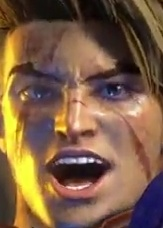kevin: (12, 22, 162, 227)
